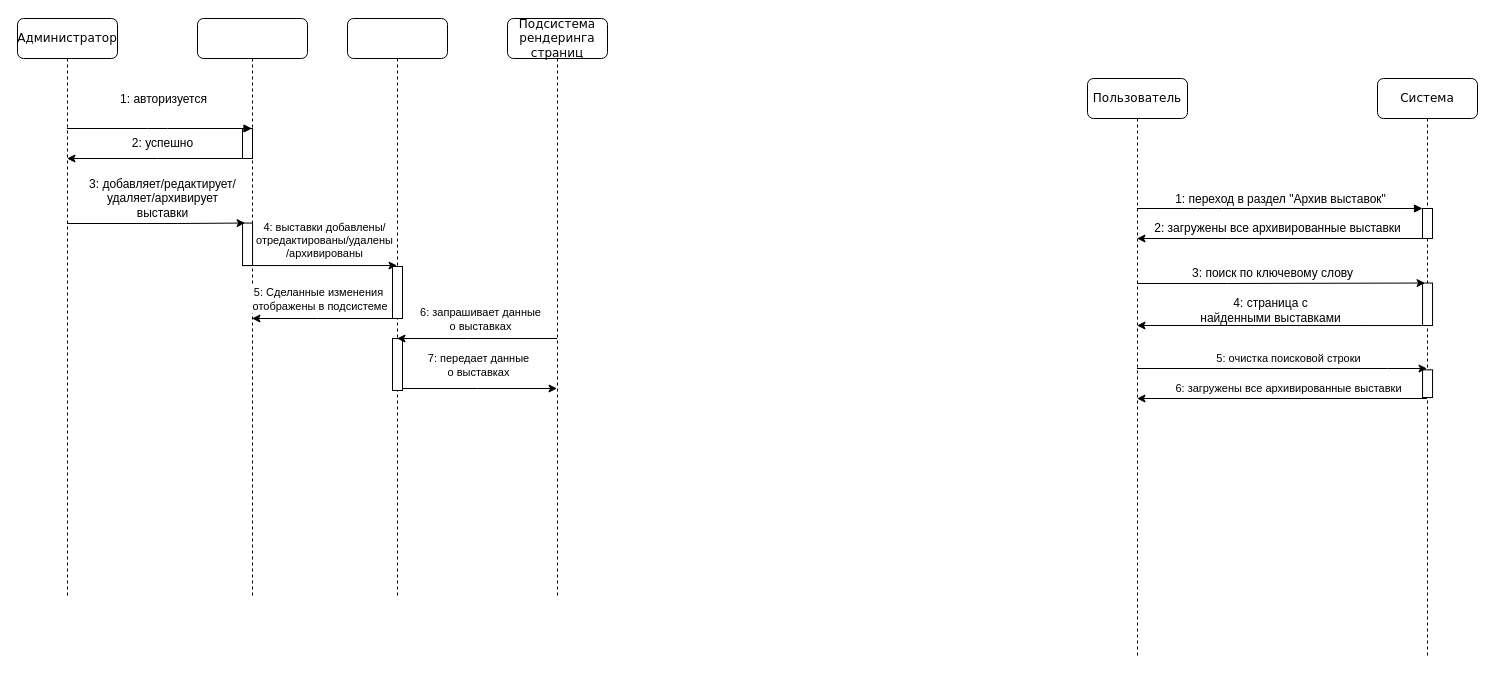
The diagram is 1495 pixels wide and 676 high, and some of its shapes have lost their labels. Here are the shapes that lost their labels. From the top down, the box of each, then its label:
(196, 18, 308, 598): Подсистема управления контентом
(346, 18, 448, 598): Подсистема хранения данных
